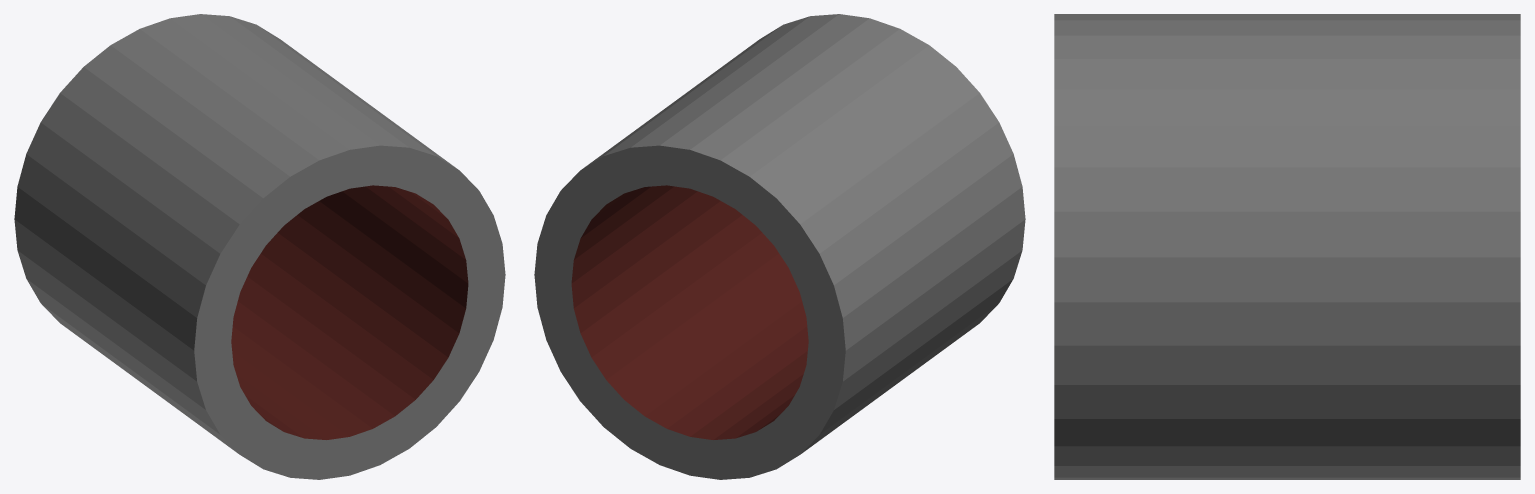
Rendered from Scrap02.fbx.
The picture shows the model from 3 angles, left to right: view 1: azimuth 30°, elevation 25°; view 2: azimuth 150°, elevation 25°; view 3: azimuth 270°, elevation 25°; orthographic projection. The views are drawn at different scales.
Parts seen in each view (by area): view 1: Cylinder; view 2: Cylinder; view 3: Cylinder.
Part boxes in pixels (x1=…): Cylinder: x1=14, y1=14, x2=505, y2=479; Cylinder: x1=534, y1=14, x2=1025, y2=479; Cylinder: x1=1054, y1=14, x2=1520, y2=479.
Bounding box in the file's own units: 200 × 200 × 200.
